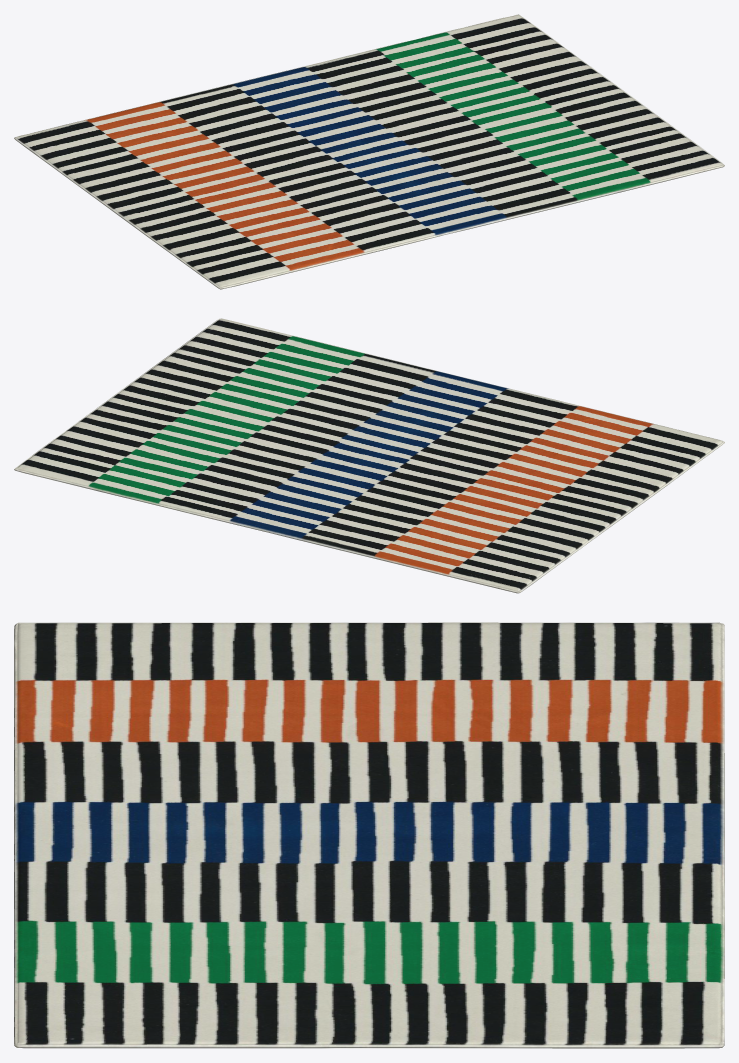
File: vandplats_dywan_z_krotkim_wosiem_40600934.glb
3 renders of one model, top to bottom at view 1: azimuth 30°, elevation 25°; view 2: azimuth 150°, elevation 25°; view 3: azimuth 270°, elevation 25°, orthographic. The views are drawn at different scales.
Visible parts, largest first — view 1: vandplats_dywan_z_krotkim_wosiem_40600934; view 2: vandplats_dywan_z_krotkim_wosiem_40600934; view 3: vandplats_dywan_z_krotkim_wosiem_40600934.
Part boxes in pixels (bbox=[...]): vandplats_dywan_z_krotkim_wosiem_40600934: bbox=[14, 14, 724, 289]; vandplats_dywan_z_krotkim_wosiem_40600934: bbox=[14, 318, 724, 593]; vandplats_dywan_z_krotkim_wosiem_40600934: bbox=[14, 622, 724, 1048].
Bounding box in the file's own units: 2.4 × 0.0129 × 1.7.
Materials: 1 (1 with a texture image).
